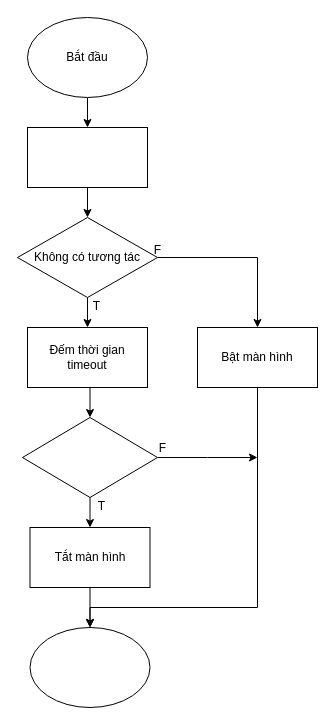
This 335x725 diagram has some shape labels left out. The shapes that lost their labels are listed below. From the top down, each one's centre as x and y in pixels, then its label:
At point 87,157: "Kiểm tra tương tác với màn hình".
At point 90,457: "Thời gian timeout lớn hơn 15s".
At point 89,667: "Kết thúc".
